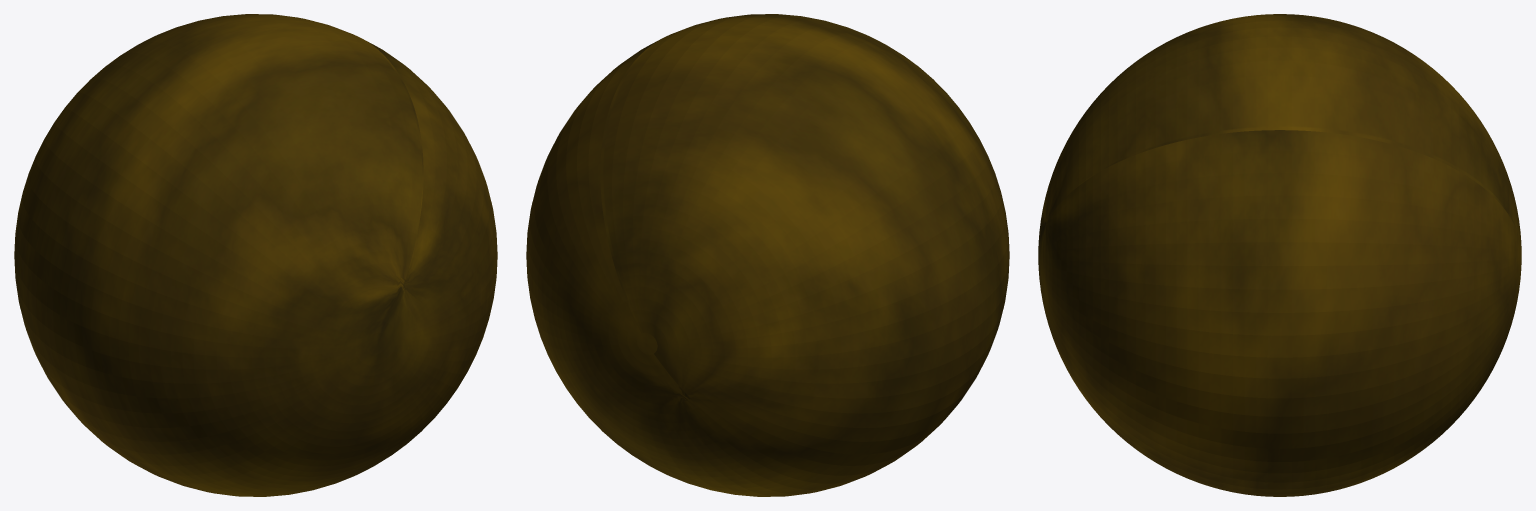
The model's file is ball05scale30ZupXforwardobj.obj.
3 views of the same model, side by side, from view 1: azimuth 30°, elevation 25°; view 2: azimuth 150°, elevation 25°; view 3: azimuth 270°, elevation 25° (orthographic).
Visible parts, largest first — view 1: Sphere; view 2: Sphere; view 3: Sphere.
Boxes of the visible parts, box(x1,y1,x2,y2) form: Sphere: box(14, 14, 497, 496); Sphere: box(526, 14, 1009, 496); Sphere: box(1038, 14, 1521, 496).
Bounding box in the file's own units: 1 × 1 × 1.
1 material, 1 textured.
